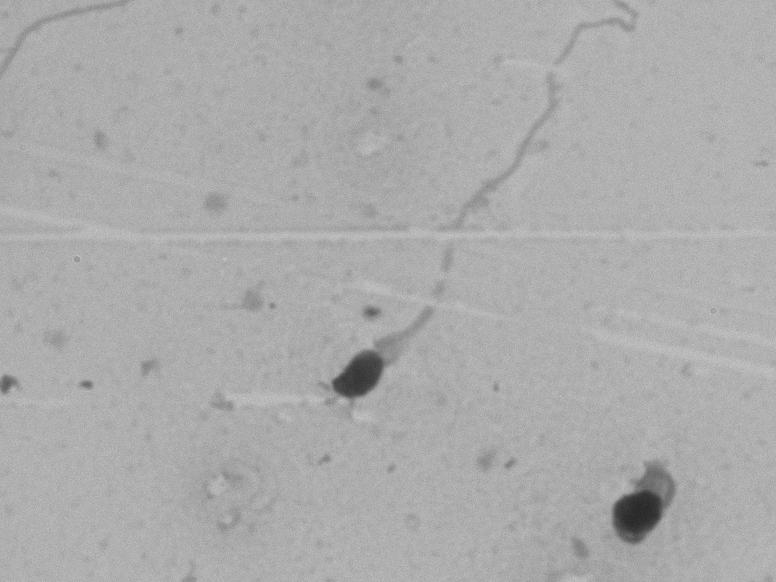Abnormal: (302, 91, 648, 429), (584, 447, 719, 569)
